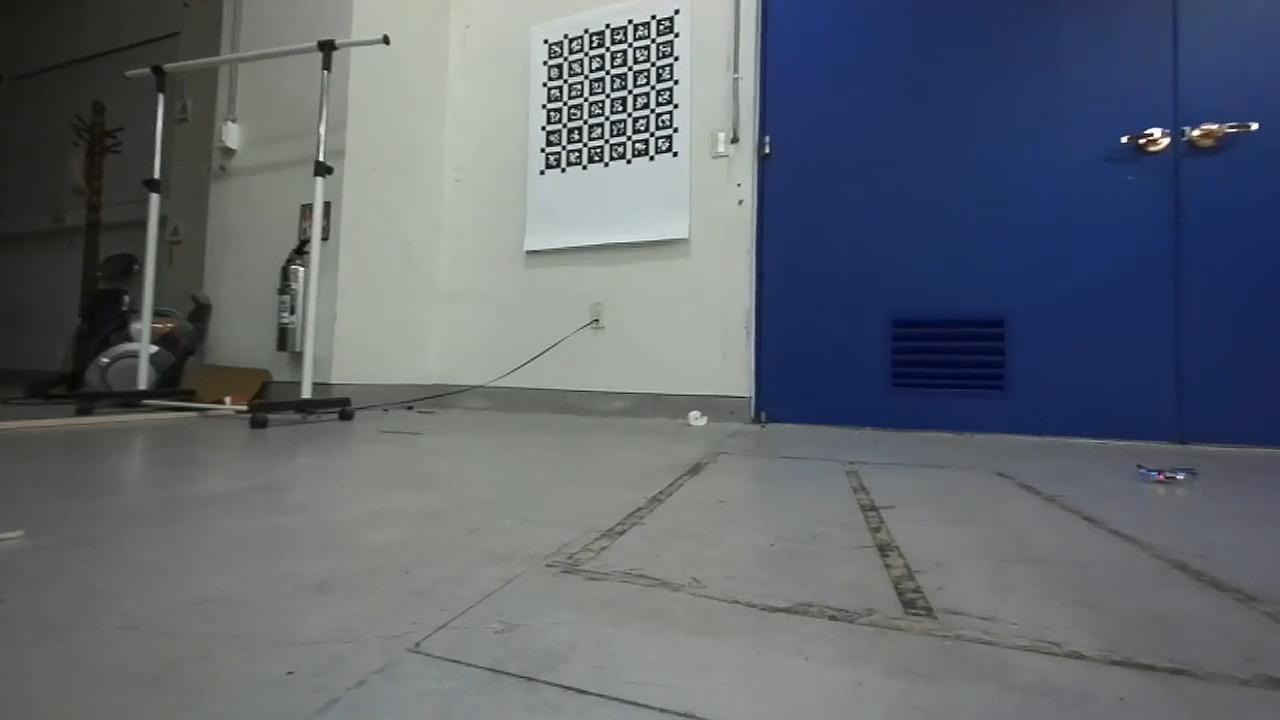crazyflie: (1131, 458, 1204, 490)
